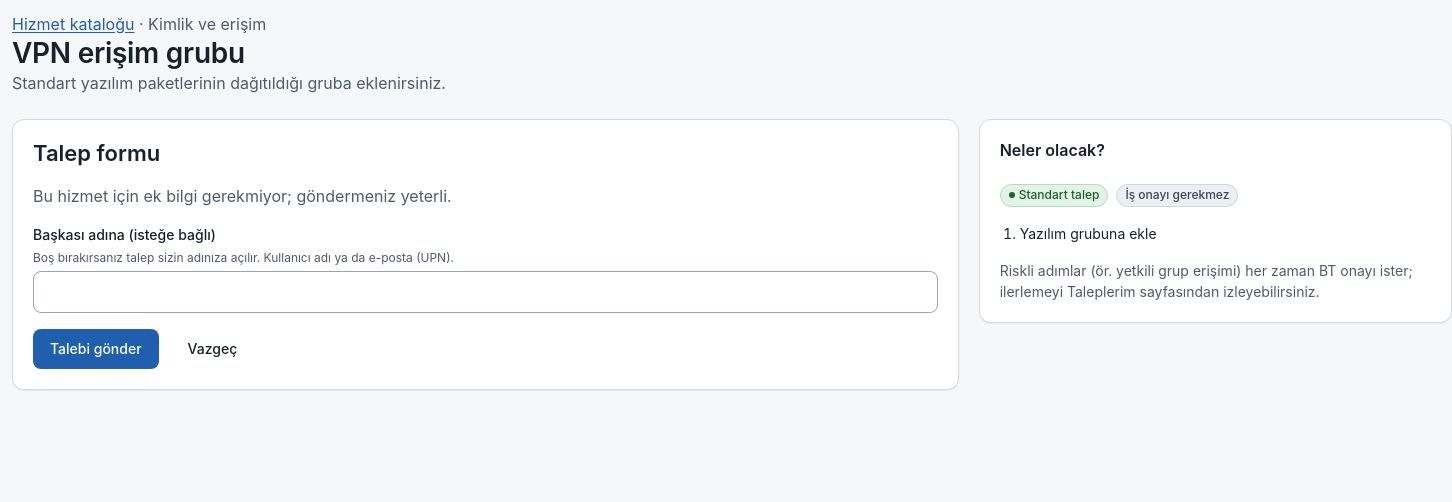
Test: CatalogItemPage (/katalog/:key) › agent başkası adına talep açabilir
expect the heading "VPN erişim grubu" is shown: met, box [12,36,245,70]
expect the text "Bu hizmet için ek bilgi gerekmiyor; göndermeniz yeterli." is shown: met, box [33,186,452,206]
Step 1. Type "mehmet" into the field labelled "Başkası adına (isteğe bağlı)" → (485, 292), box [33,270,938,312]
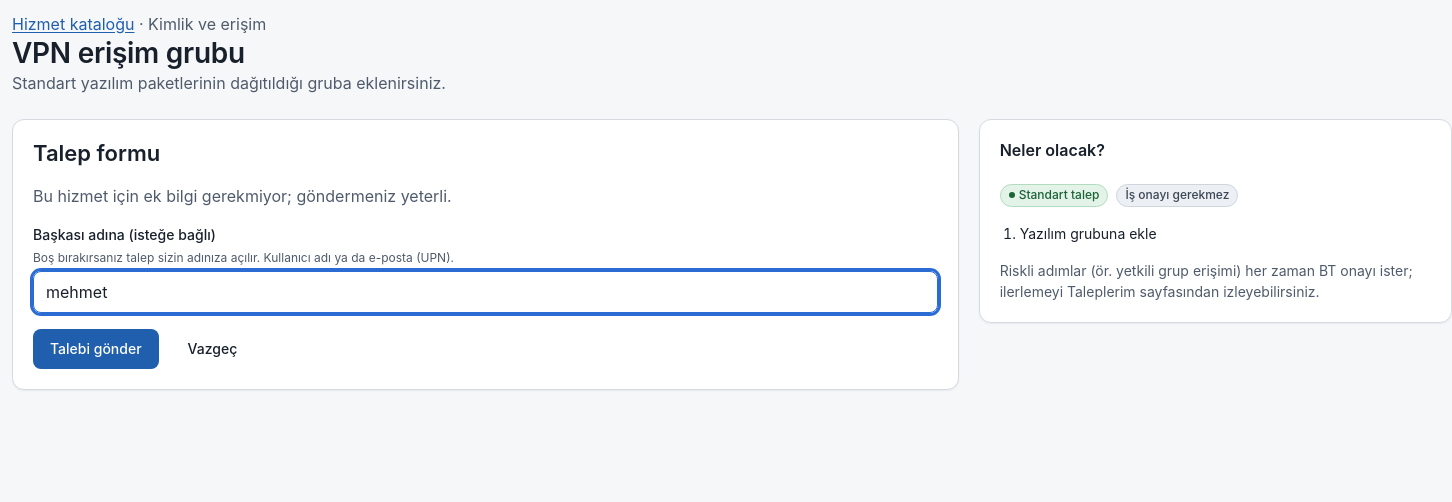
Step 2. Click the button "Talebi gönder" → click(96, 348), box [33,328,159,368]
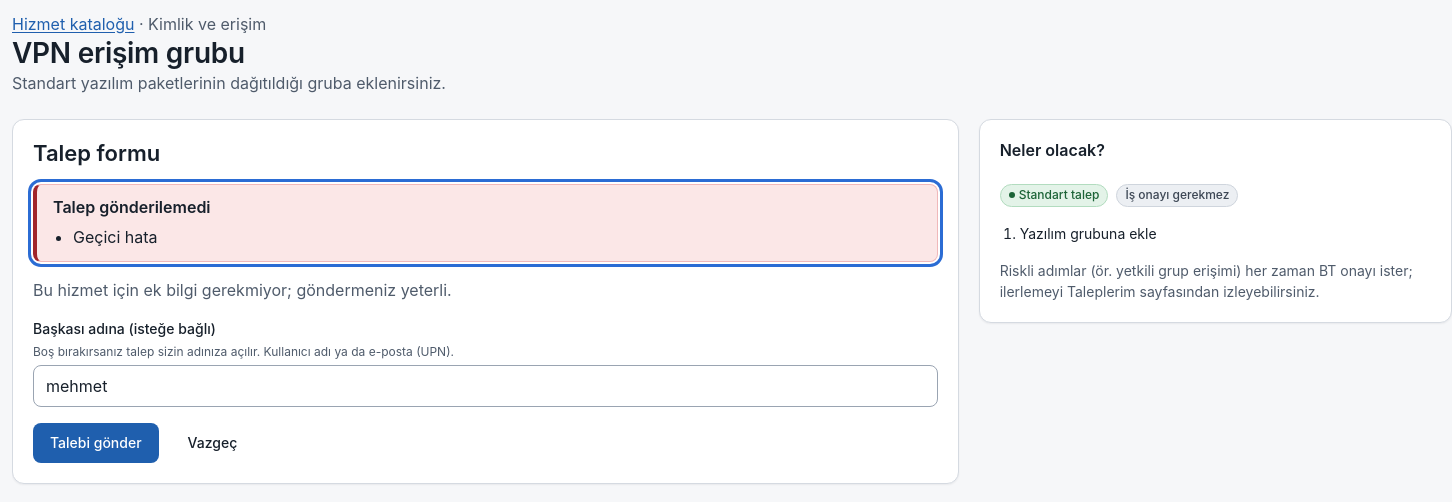
expect the message shows "Geçici hata": met, box [73,226,158,246]
